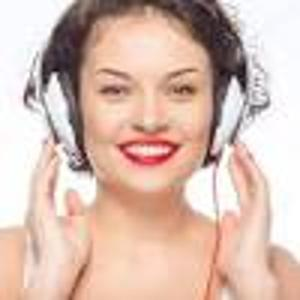Headphones: (38, 4, 250, 165)
